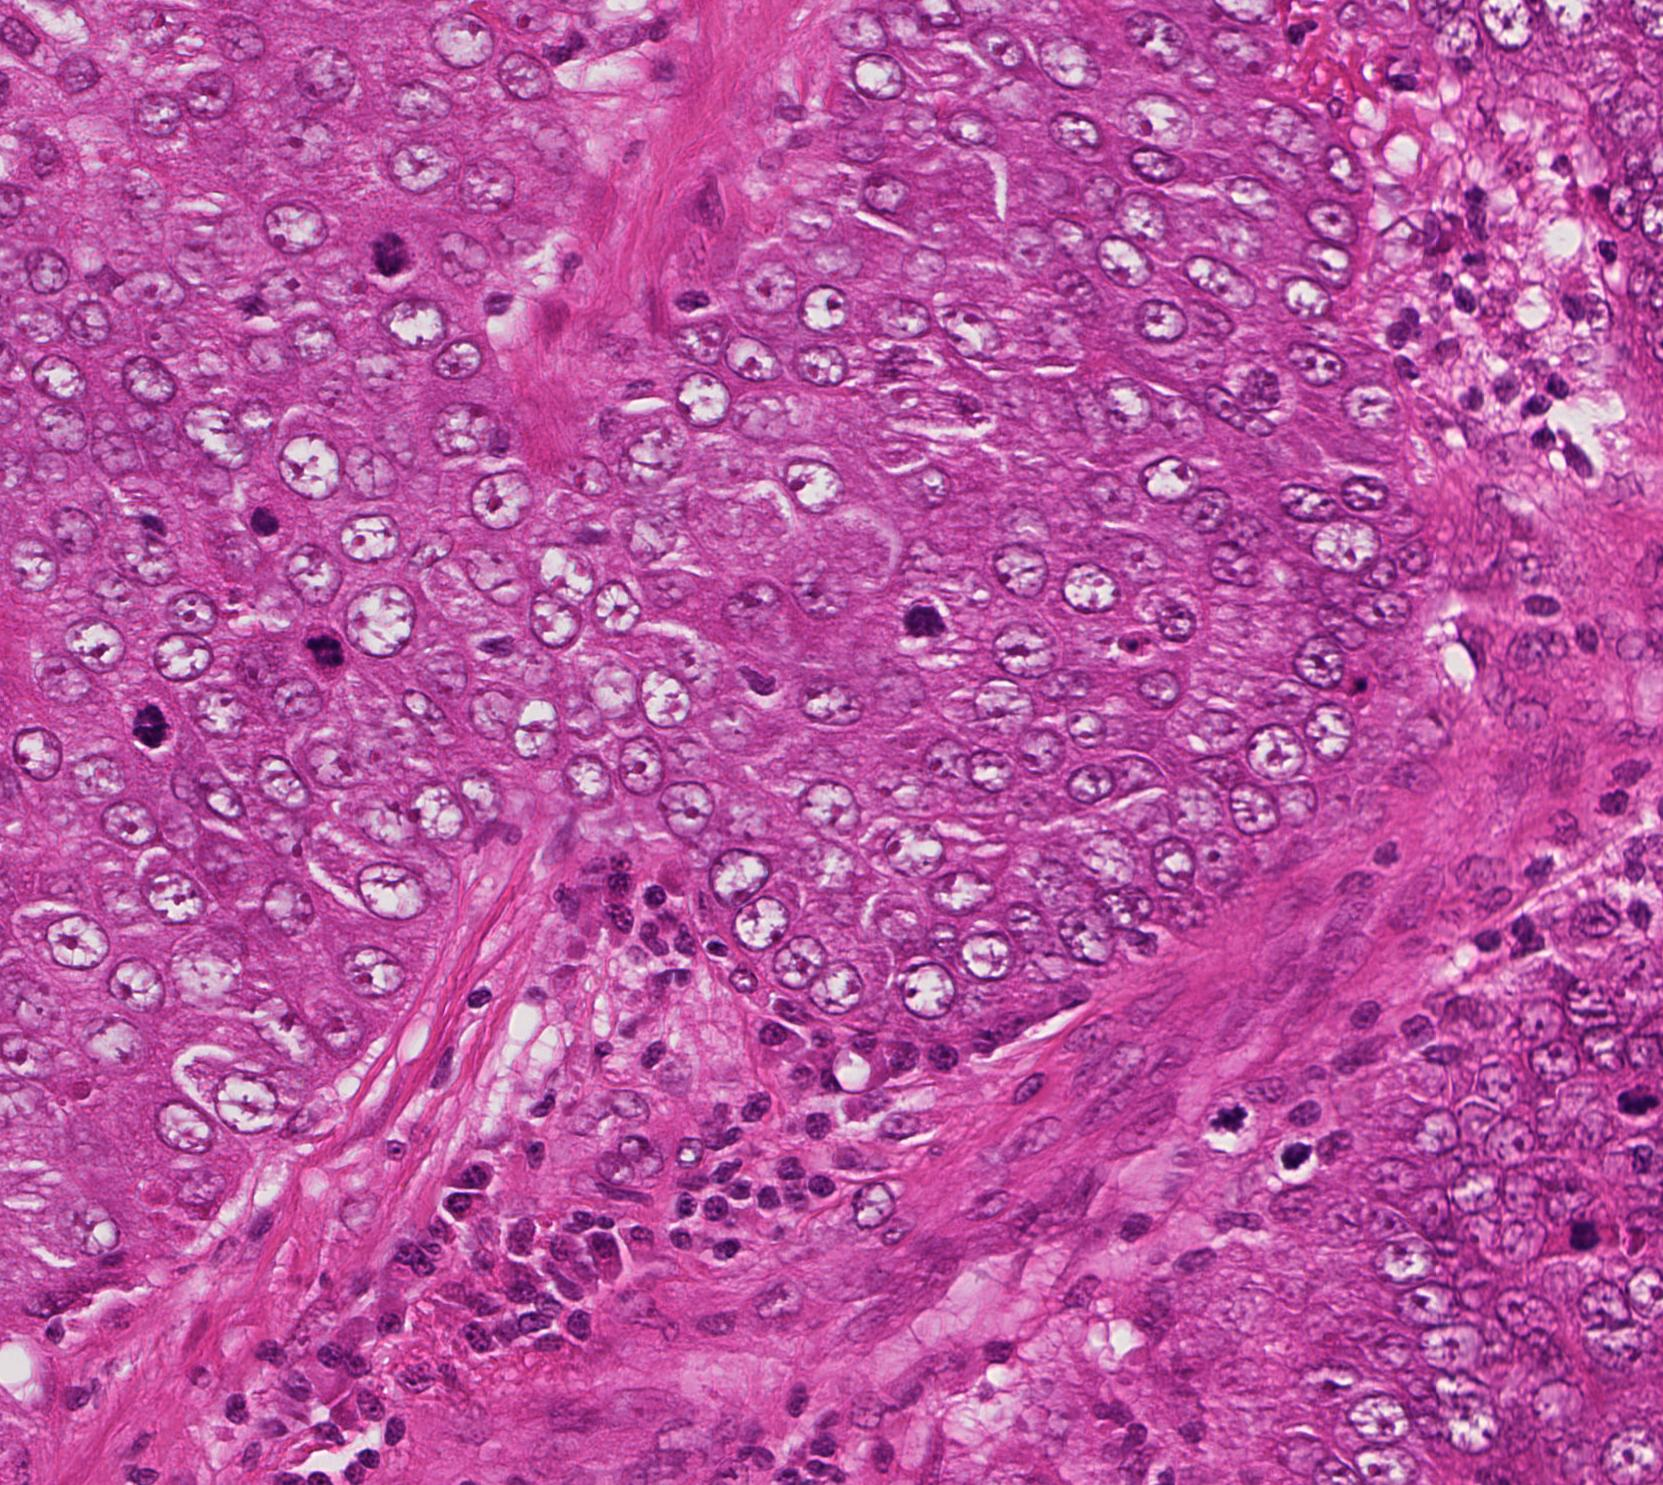mitosis: (1201, 1084, 1262, 1144), (135, 697, 195, 757), (377, 221, 437, 281), (896, 588, 956, 648), (301, 624, 361, 682)
